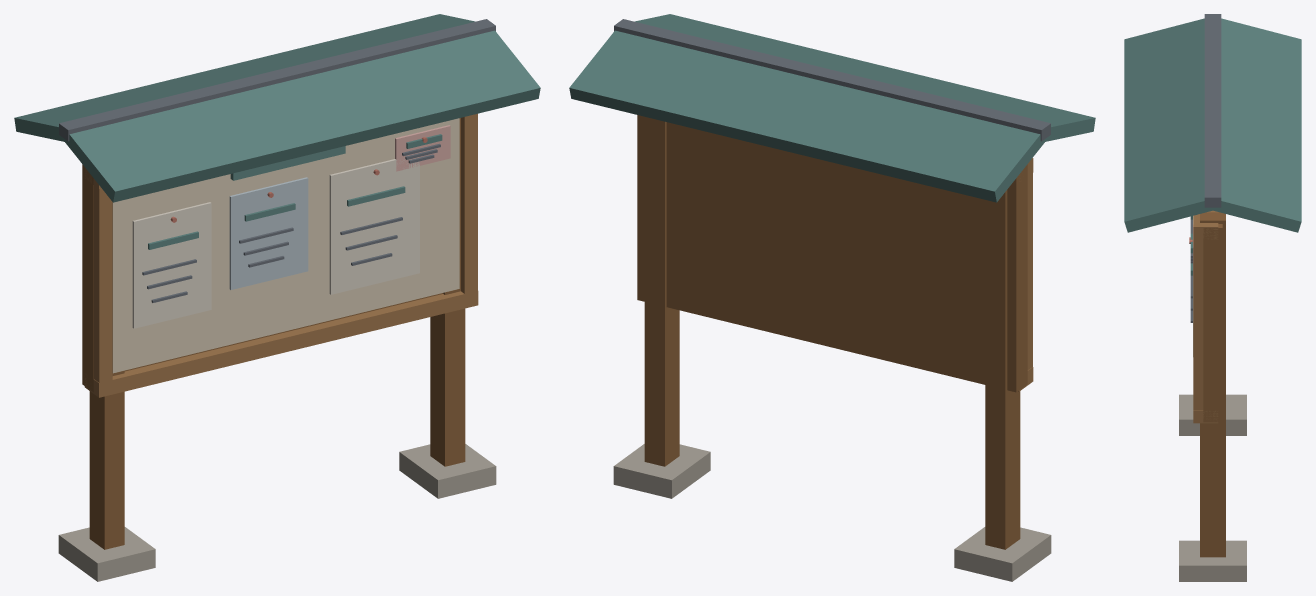
Rendered from komachi-notice-board.glb.
3 views of the same model, side by side, from view 1: azimuth 30°, elevation 25°; view 2: azimuth 150°, elevation 25°; view 3: azimuth 270°, elevation 25° (orthographic). The views are drawn at different scales.
Visible parts, largest first — view 1: Community_Notice_Board; view 2: Community_Notice_Board; view 3: Community_Notice_Board.
Part boxes in pixels (x1,y1,x2,y2): Community_Notice_Board: [14, 14, 540, 581]; Community_Notice_Board: [569, 14, 1095, 581]; Community_Notice_Board: [1124, 14, 1301, 581].
Size of the model in its own units: 0.553 by 0.549 by 0.2257.
